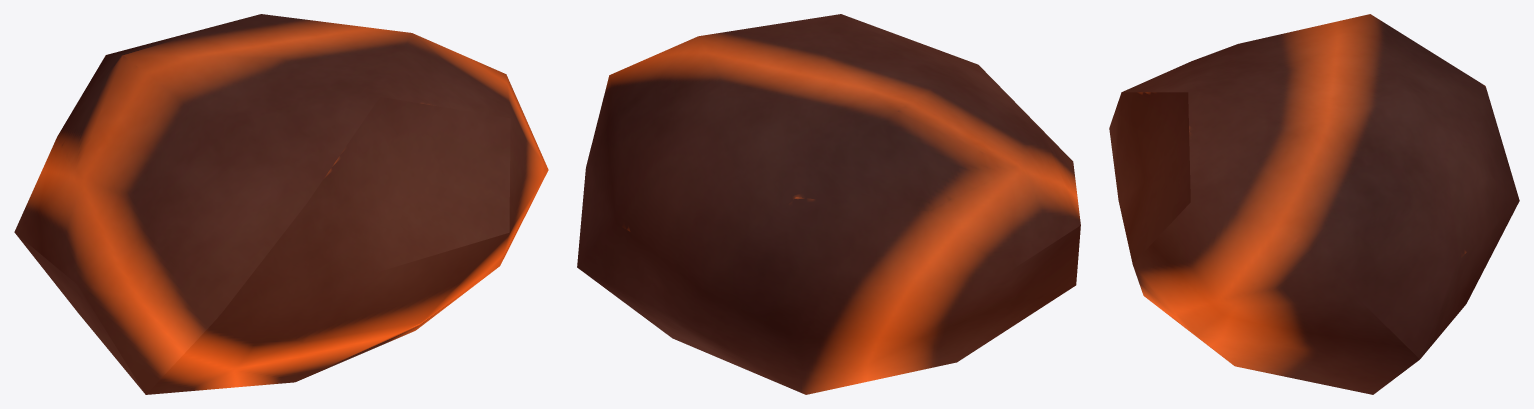
File: SM_Coal_A.glb
The picture shows the model from 3 angles, left to right: view 1: azimuth 30°, elevation 25°; view 2: azimuth 150°, elevation 25°; view 3: azimuth 270°, elevation 25°; orthographic projection. The views are drawn at different scales.
Visible parts, largest first — view 1: SM_Coal_A; view 2: SM_Coal_A; view 3: SM_Coal_A.
Boxes of the visible parts, x1,y1,x2,y2 form: SM_Coal_A: (14, 14, 548, 394); SM_Coal_A: (577, 14, 1080, 394); SM_Coal_A: (1109, 14, 1519, 394).
Bounding box in the file's own units: 0.0578 × 0.0376 × 0.0472.
Materials: 1 (1 with a texture image).
